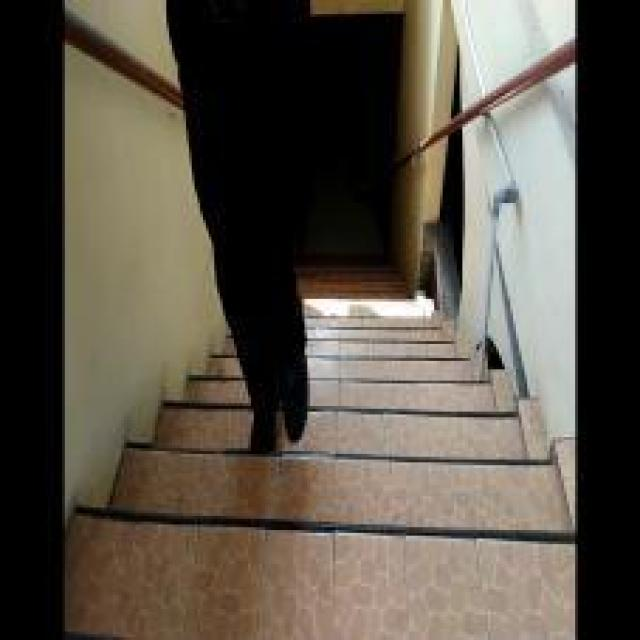downstair: (317, 306, 472, 638)
